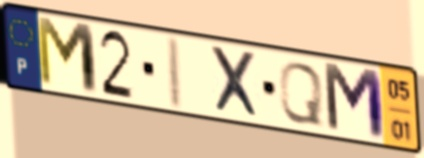2: (96, 29, 136, 102)
I: (166, 34, 186, 114)
M: (320, 59, 390, 145), (33, 13, 102, 99)
Q: (276, 60, 325, 129)
X: (207, 43, 265, 123)
